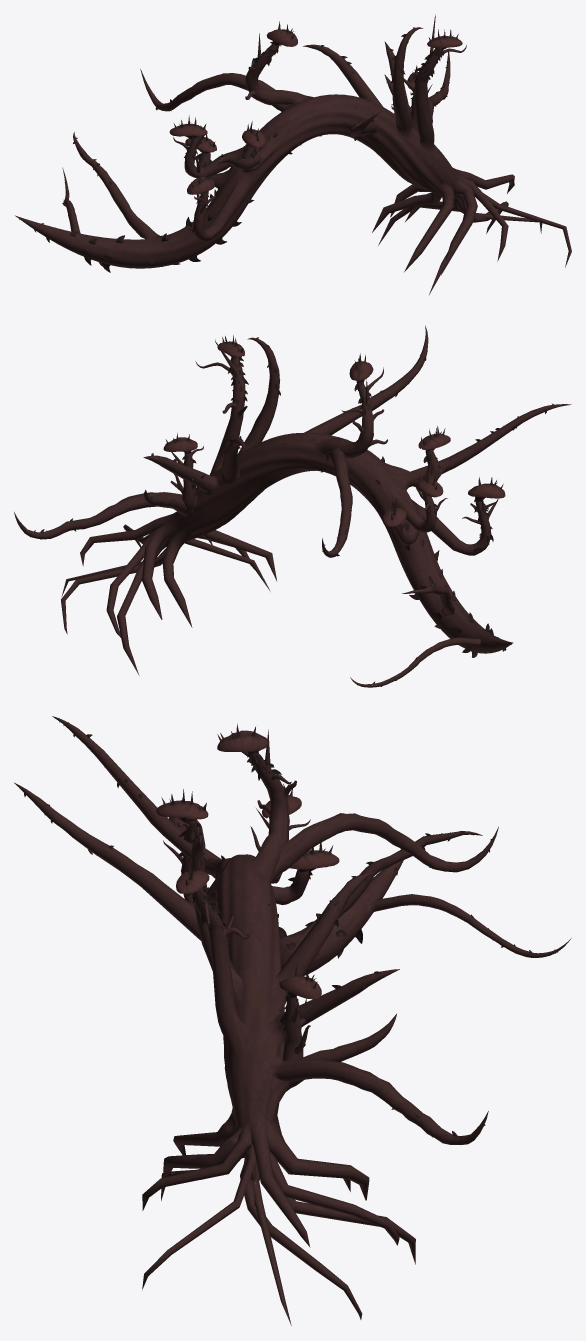
3 renders of one model, top to bottom at view 1: azimuth 30°, elevation 25°; view 2: azimuth 150°, elevation 25°; view 3: azimuth 270°, elevation 25°, orthographic. The views are drawn at different scales.
Parts seen in each view (by area): view 1: SM_Spiked_Plant_03_LOD0; view 2: SM_Spiked_Plant_03_LOD0; view 3: SM_Spiked_Plant_03_LOD0.
Boxes of the visible parts, <box> form: SM_Spiked_Plant_03_LOD0: <box>15,14,571,294</box>; SM_Spiked_Plant_03_LOD0: <box>14,325,571,687</box>; SM_Spiked_Plant_03_LOD0: <box>14,716,571,1325</box>.
Bounding box in the file's own units: 12.51 × 7.58 × 8.79.
Materials: 1 (1 with a texture image).
